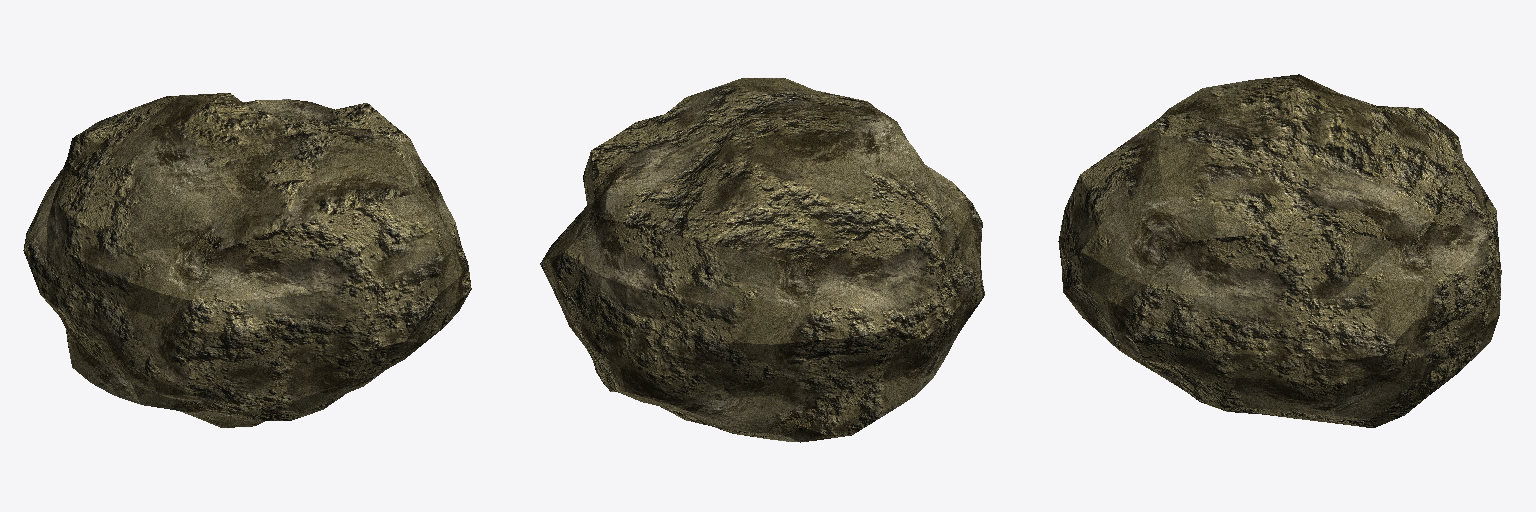
3 views of the same model, side by side, from view 1: azimuth 30°, elevation 25°; view 2: azimuth 150°, elevation 25°; view 3: azimuth 270°, elevation 25° (orthographic).
Parts seen in each view (by area): view 1: Cube_Cube.005; view 2: Cube_Cube.005; view 3: Cube_Cube.005.
Part boxes in pixels (bbox=[...]): Cube_Cube.005: bbox=[23, 93, 471, 427]; Cube_Cube.005: bbox=[540, 78, 984, 442]; Cube_Cube.005: bbox=[1058, 74, 1501, 427].
Bounding box in the file's own units: 1.94 × 1.5 × 1.99.
Materials: 1 (1 with a texture image).